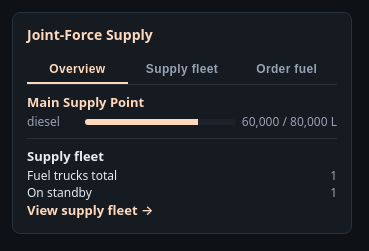
SupplyPanel › renames the action to "Order fuel"
Click the tab with test id "supply-tab-order" at x=287, y=70, box [236,56,337,84]
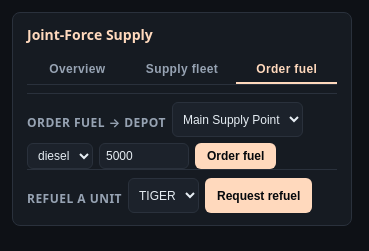
Expected: the button with test id "buy-submit" reads "Order fuel", [195,143,276,169]
